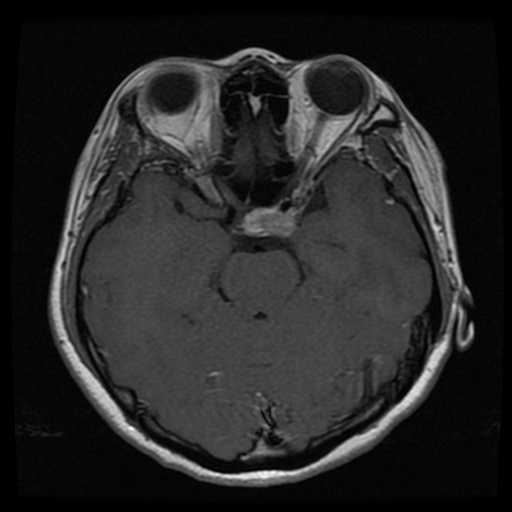pituitary: (239, 206, 301, 235)
